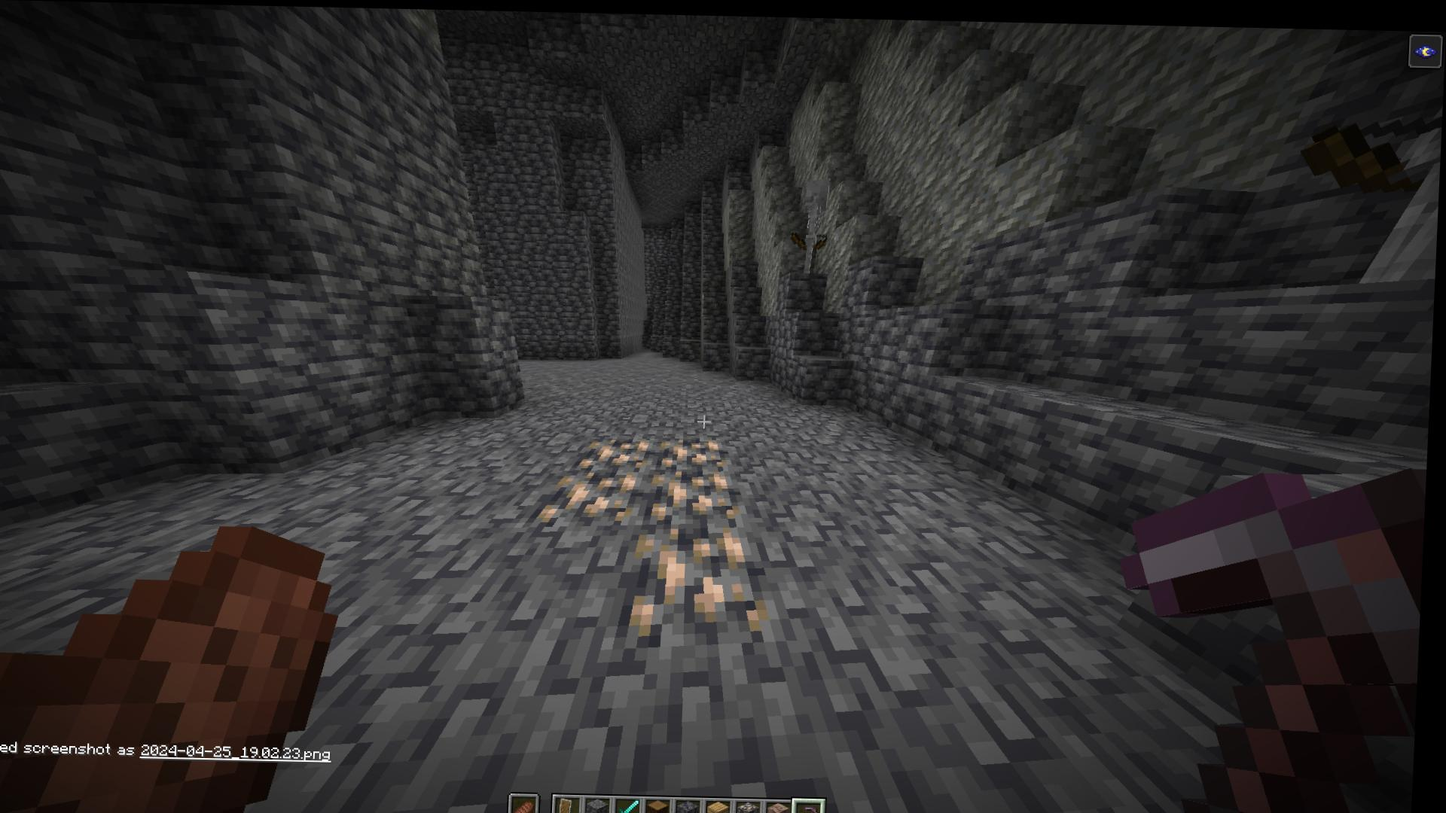iron ore: (638, 521, 767, 636), (645, 465, 747, 517), (542, 467, 645, 517), (579, 430, 661, 469), (659, 434, 736, 469)
